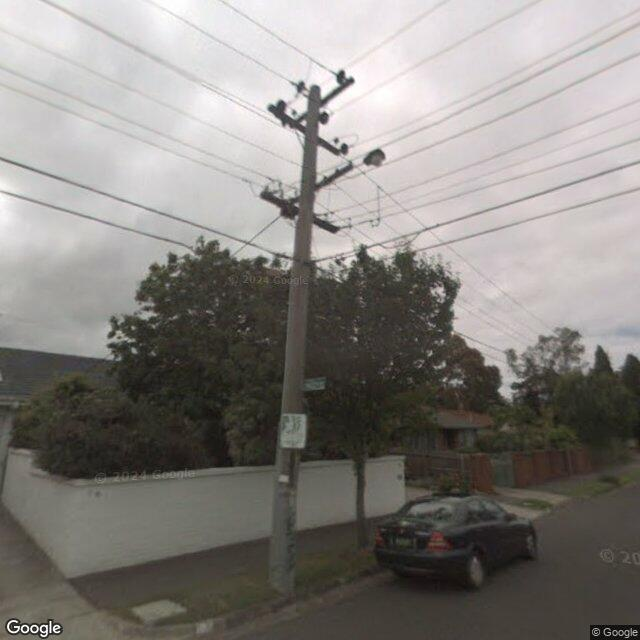HV-transmission: (276, 100, 348, 156), (292, 69, 346, 116)
crossarm: (266, 104, 340, 156), (259, 191, 339, 234), (290, 76, 355, 128), (289, 164, 353, 204)
streetlight: (353, 148, 386, 168)
timber-pole: (268, 85, 320, 595)
